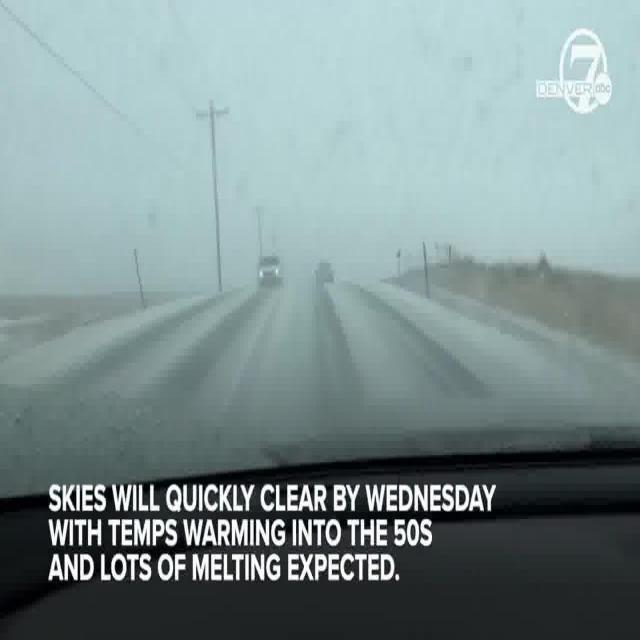Car: (258, 254, 281, 286)
